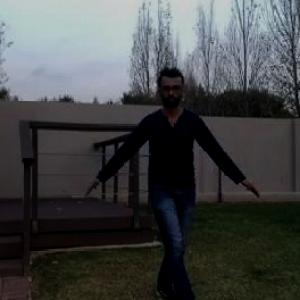land: (100, 69, 240, 299)
